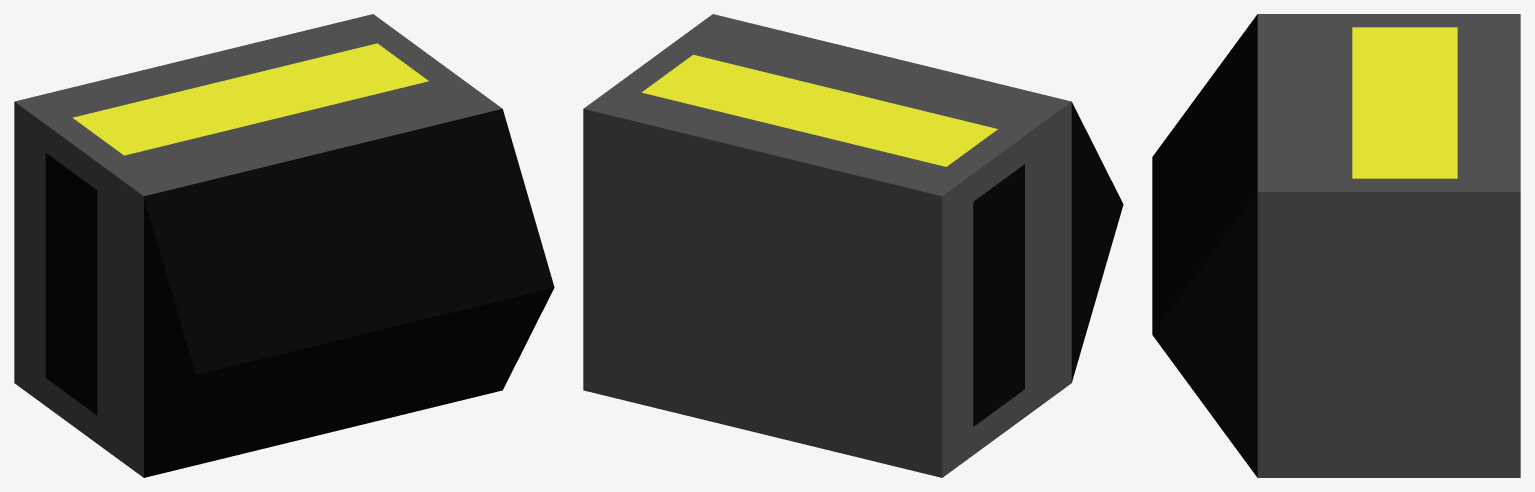
The model's file is house_2_night.dae.
The picture shows the model from 3 angles, left to right: view 1: azimuth 30°, elevation 25°; view 2: azimuth 150°, elevation 25°; view 3: azimuth 270°, elevation 25°; orthographic projection.
Parts seen in each view (by area): view 1: coords_ME_ID3_MA_material_9, coords_ME_ID11_MA_material, coords_ME_ID33_MA_material_3, coords_ME_ID39_MA_material_9; view 2: coords_ME_ID11_MA_material, coords_ME_ID33_MA_material_3, coords_ME_ID39_MA_material_9, coords_ME_ID3_MA_material_9; view 3: coords_ME_ID11_MA_material, coords_ME_ID3_MA_material_9, coords_ME_ID33_MA_material_3.
Part boxes in pixels (box(x1,y1,x2,y2)): coords_ME_ID3_MA_material_9: box(144, 109, 554, 477); coords_ME_ID11_MA_material: box(14, 14, 502, 477); coords_ME_ID33_MA_material_3: box(73, 43, 428, 155); coords_ME_ID39_MA_material_9: box(45, 153, 97, 415); coords_ME_ID11_MA_material: box(583, 14, 1071, 477); coords_ME_ID33_MA_material_3: box(642, 54, 997, 166); coords_ME_ID39_MA_material_9: box(973, 164, 1024, 426); coords_ME_ID3_MA_material_9: box(1071, 102, 1123, 382); coords_ME_ID11_MA_material: box(1257, 14, 1520, 477); coords_ME_ID3_MA_material_9: box(1152, 14, 1257, 477); coords_ME_ID33_MA_material_3: box(1352, 27, 1457, 178).
Bounding box in the file's own units: 77.95 × 58.46 × 68.21.
